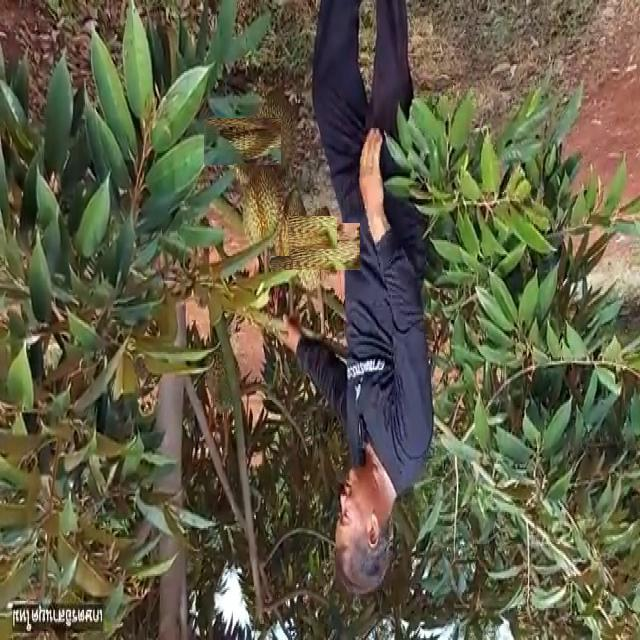durian: (234, 158, 288, 256), (250, 86, 304, 184), (281, 212, 349, 281), (211, 110, 273, 173), (266, 203, 324, 262)
